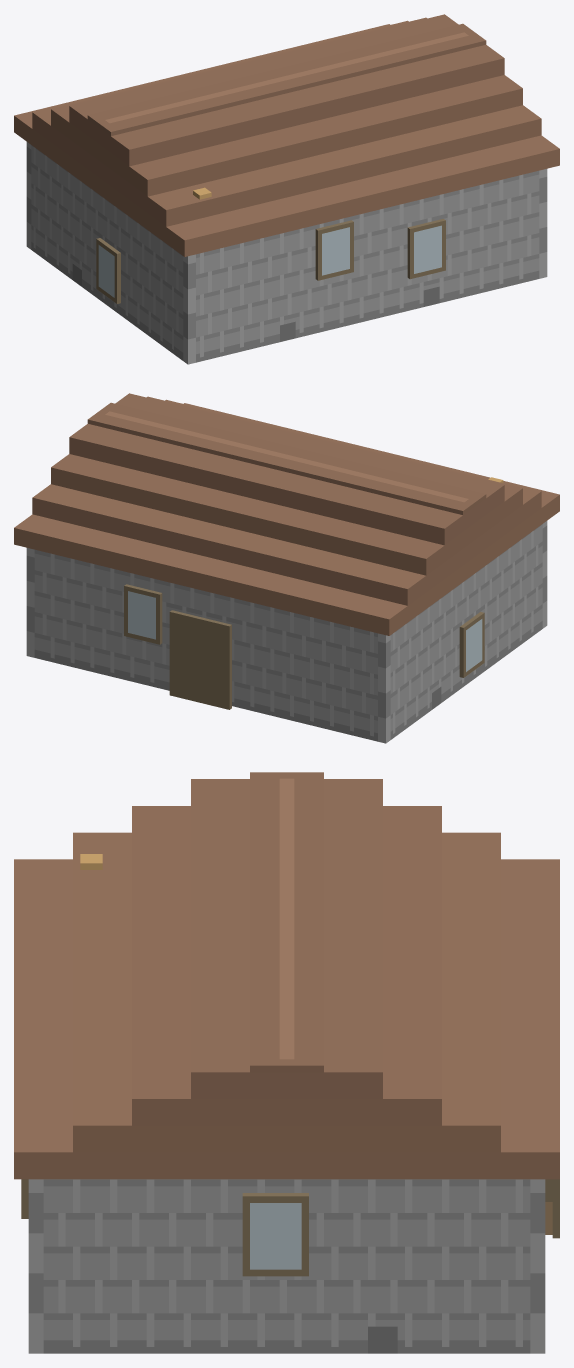
File: alfareria_03.glb
3 renders of one model, top to bottom at view 1: azimuth 30°, elevation 25°; view 2: azimuth 150°, elevation 25°; view 3: azimuth 270°, elevation 25°, orthographic. The views are drawn at different scales.
Visible parts, largest first — view 1: alfareria_03; view 2: alfareria_03; view 3: alfareria_03.
Boxes of the visible parts, x1,y1,x2,y2 form: alfareria_03: (14,14,559,364); alfareria_03: (14,393,559,743); alfareria_03: (14,772,559,1353).
Size of the model in its own units: 9.4 by 4.4 by 7.4.
